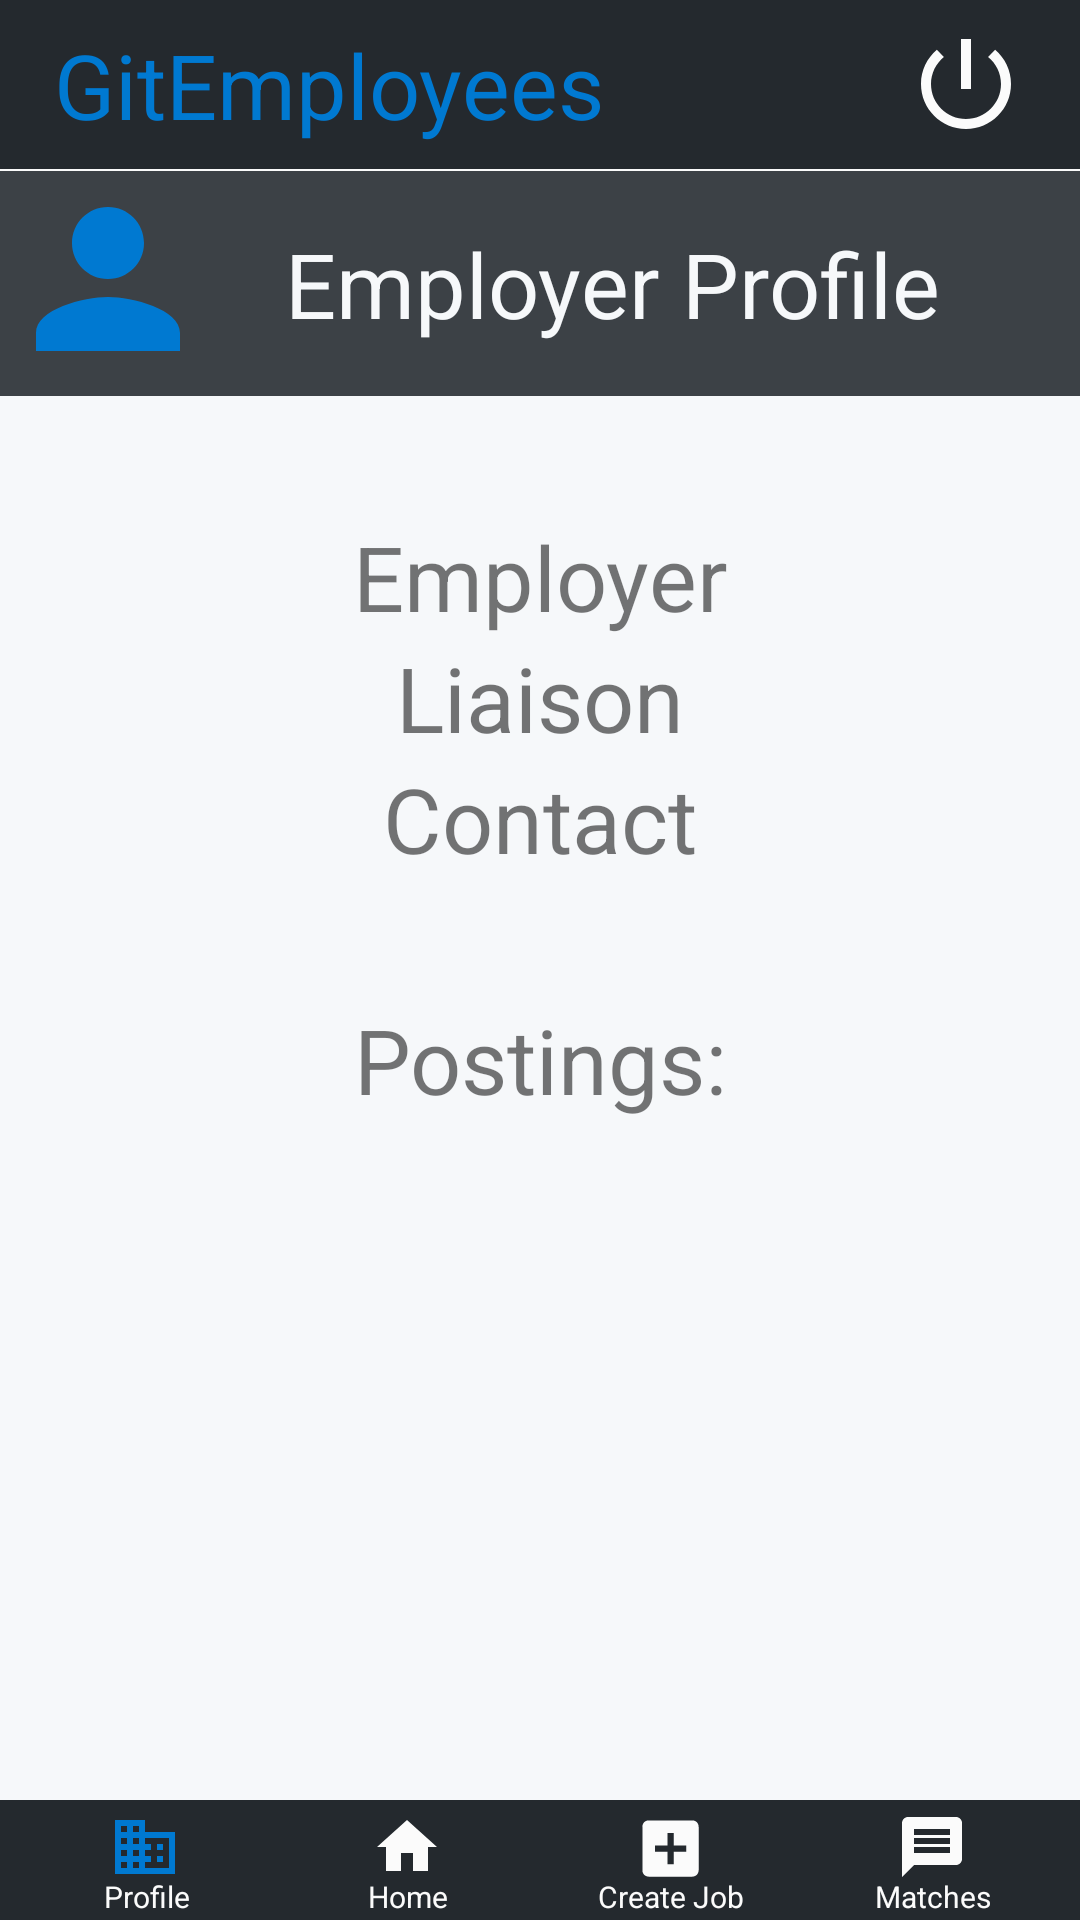

Icon click points for this 1080 x 1920 phone screenshot, format (x,y):
addwhite: (670,1848)
businessblue: (145,1847)
messagewhite: (932,1847)
powerwhite: (966,84)
profileblue: (108,279)
